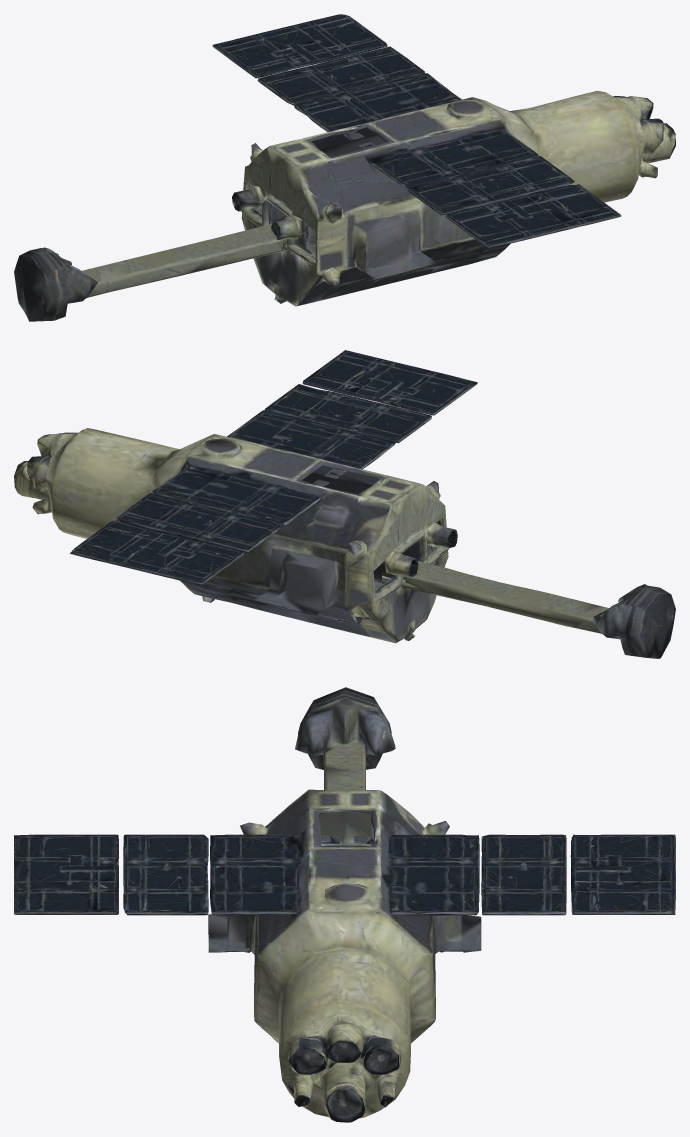
Rendered from hitomi-low.glb.
3 views of the same model, one above another, from view 1: azimuth 30°, elevation 25°; view 2: azimuth 150°, elevation 25°; view 3: azimuth 270°, elevation 25° (orthographic). The views are drawn at different scales.
Bounding box in the file's own units: 1.9 × 0.4228 × 1.42.
1 material, 1 textured.
